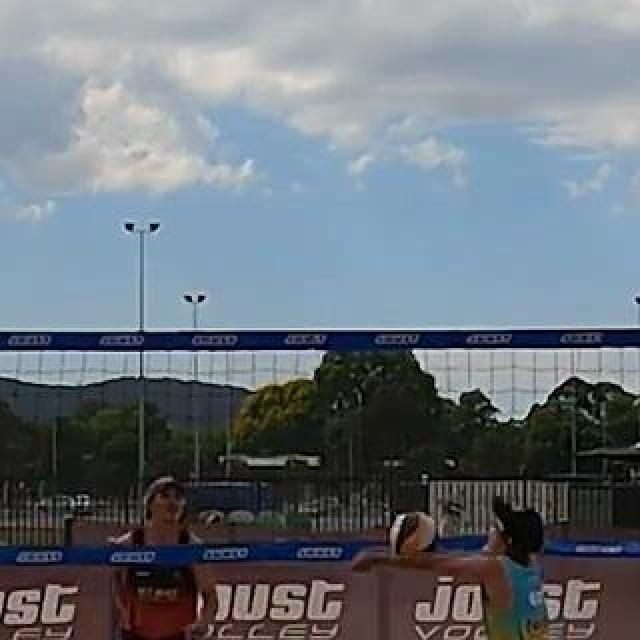volleyball: (387, 511, 439, 557)
